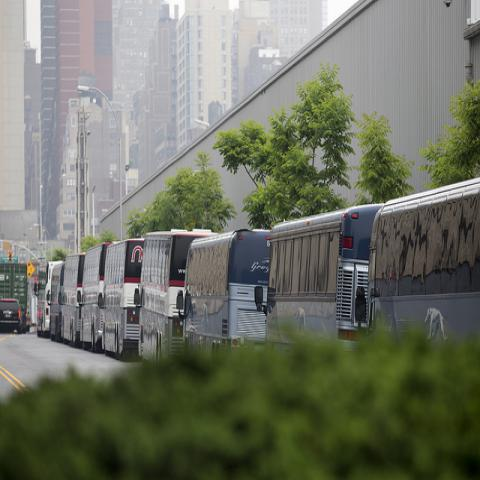bus: (365, 176, 479, 341), (268, 206, 382, 344), (175, 230, 272, 353), (138, 231, 219, 367), (97, 237, 145, 360), (78, 242, 107, 353), (33, 261, 64, 339), (63, 250, 86, 344), (47, 262, 65, 343)
car: (0, 298, 23, 334)
